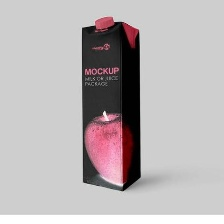carton: (78, 14, 143, 193)
